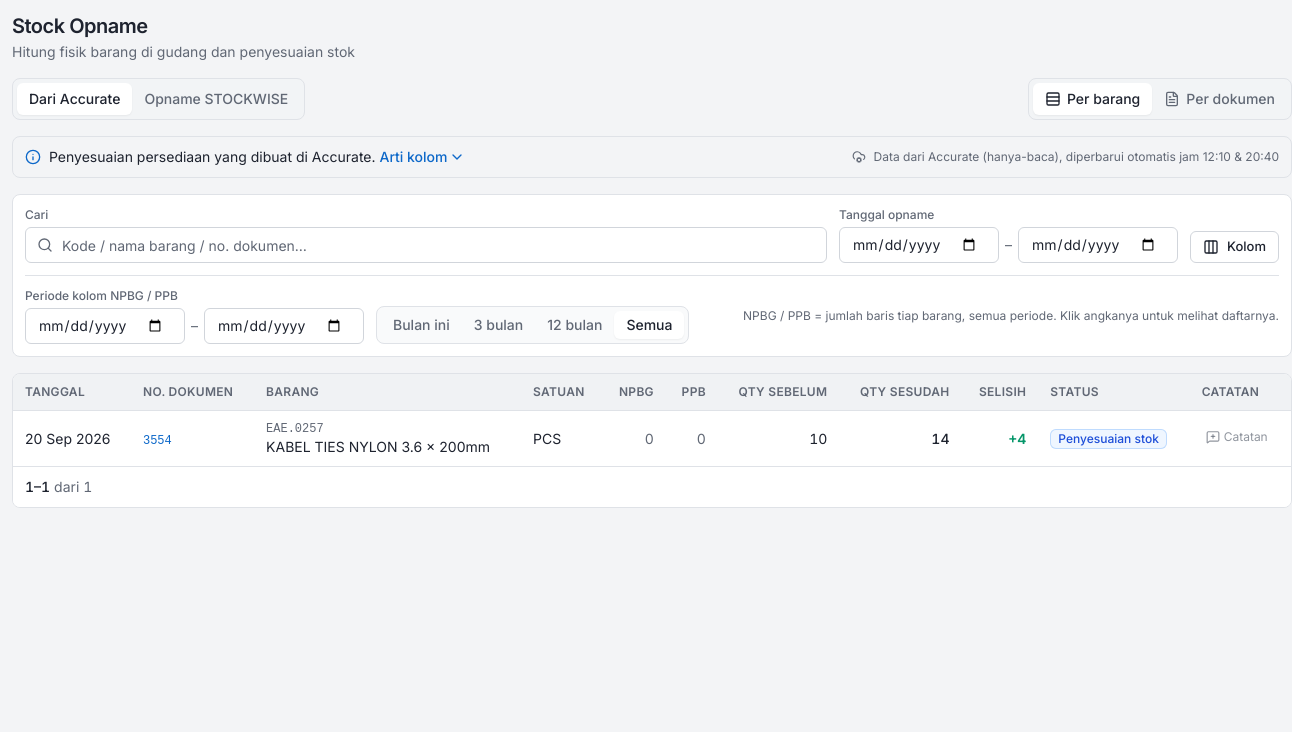
OpnameListPage › per-document view names the items and how many more
What coordinates should you click on to do the following:
click the button "Per dokumen"
I would click on:
 (1220, 99)
Its box is [1152,83,1287,115].
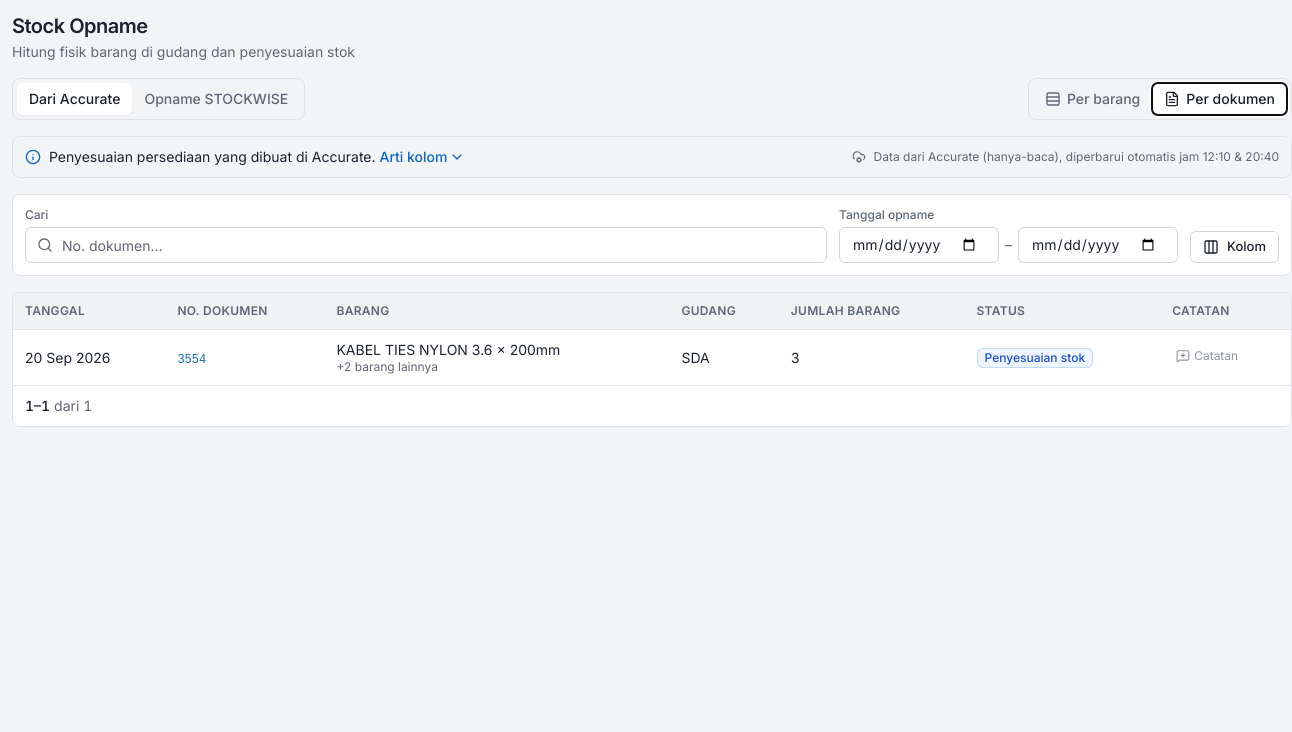
Check: the text "+2 barang lainnya" is shown, box [336,359,438,374]
